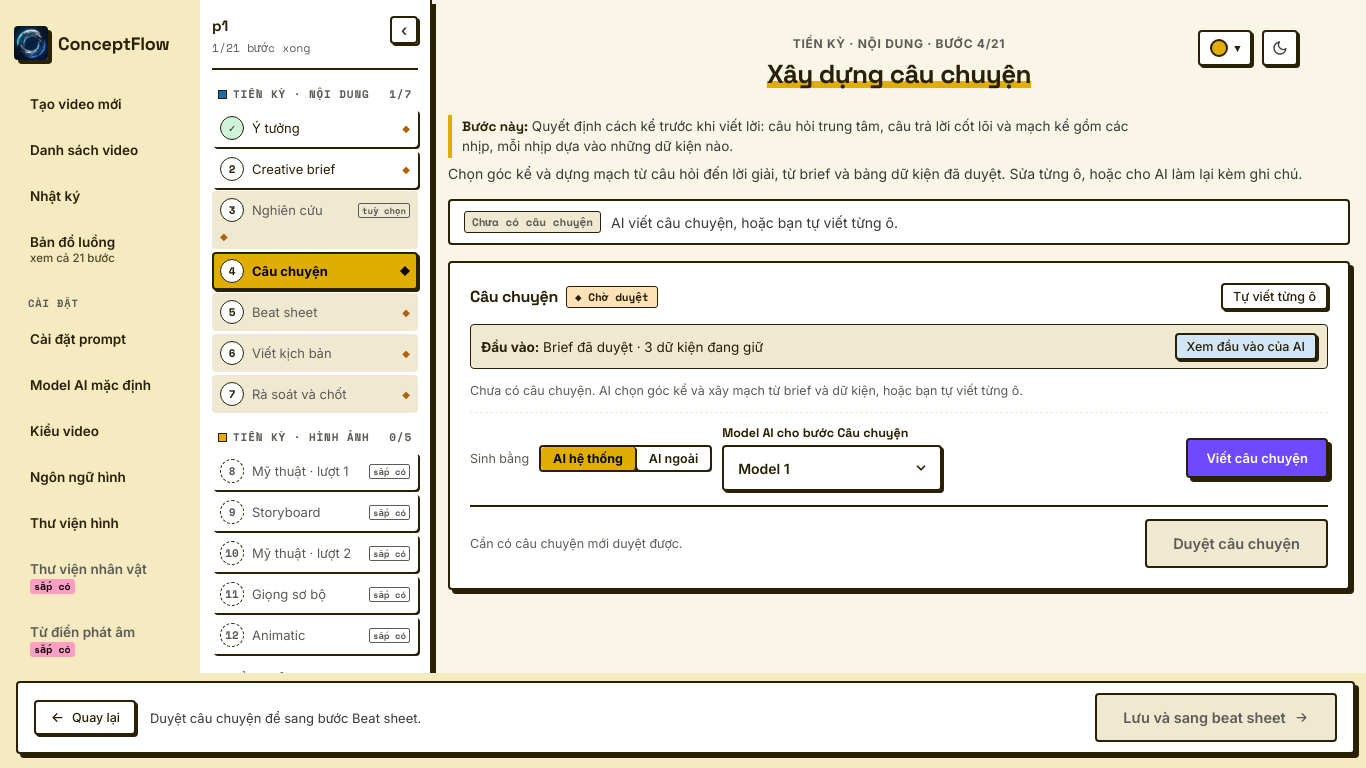
it: StoryStepPage › writes the story by hand when the Creator starts from nothing
The width and height of the screenshot is (1366, 768).
Expected: the element with test id "story-card" is shown, [448,261,1350,590]
Click the button with test id "story-write-by-hand": coordinates (1274, 297) [1221,283,1328,310]
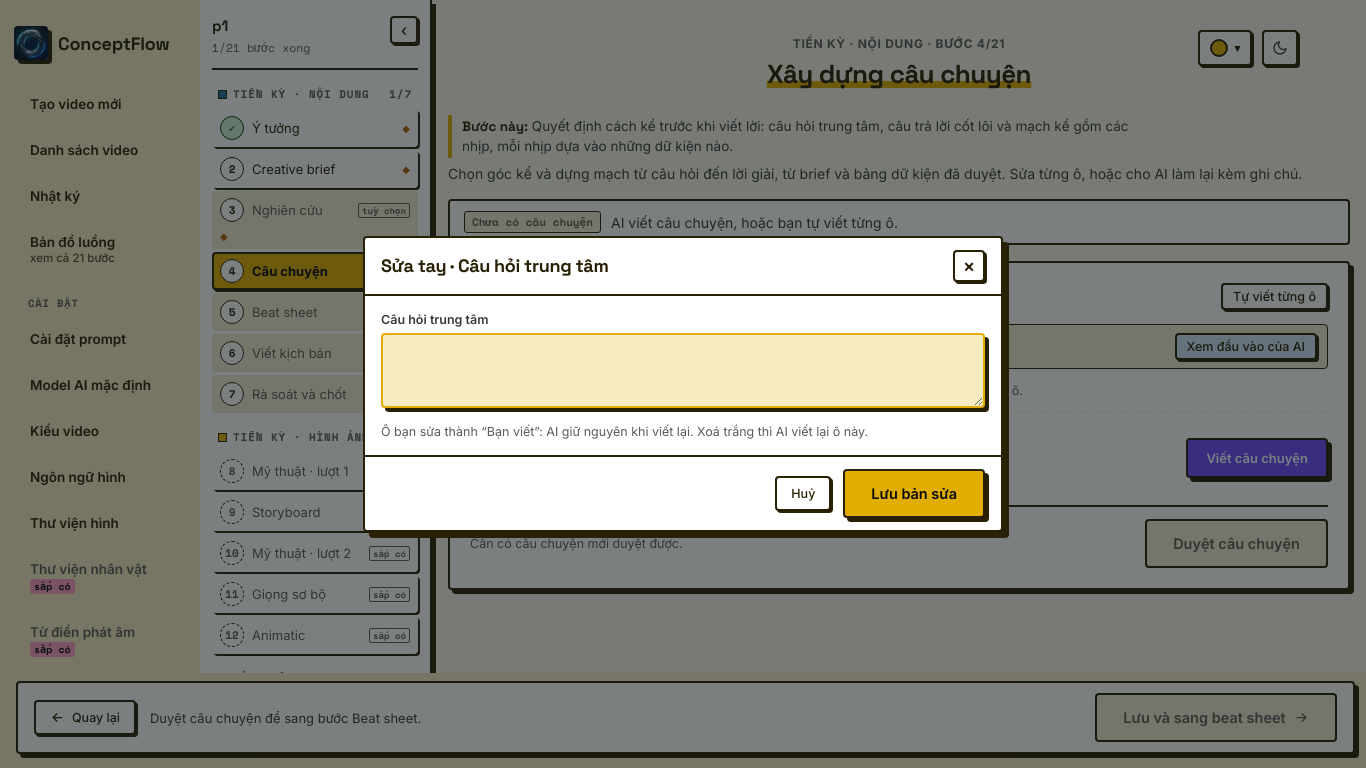
In the text box with test id "story-edit-question-dialog-field": coordinates (683, 371) [381,333,985,408], type "Câu hỏi của tôi?"
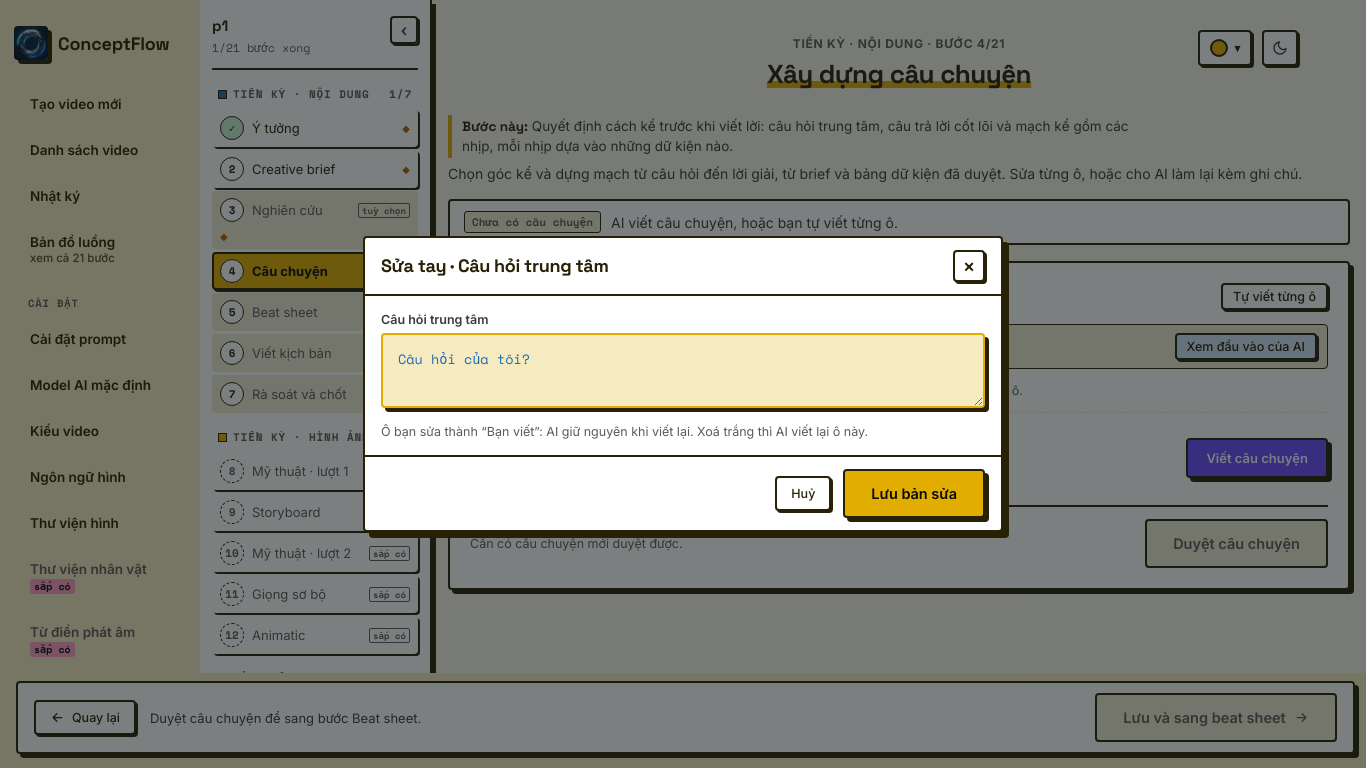
Click the button with test id "story-edit-question-dialog-save": coordinates (914, 494) [843,469,985,518]
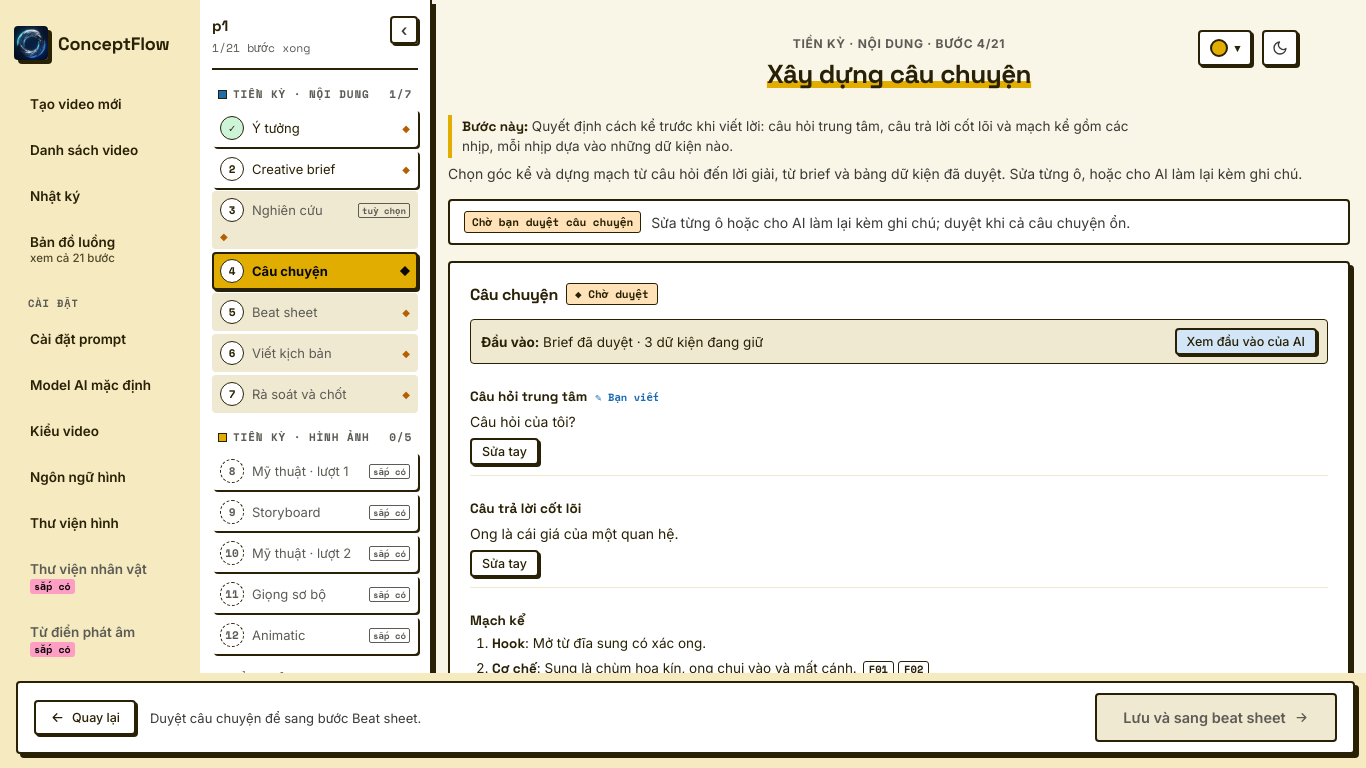
Now the text "✎ Bạn viết" is shown, box [595,389,659,405]
